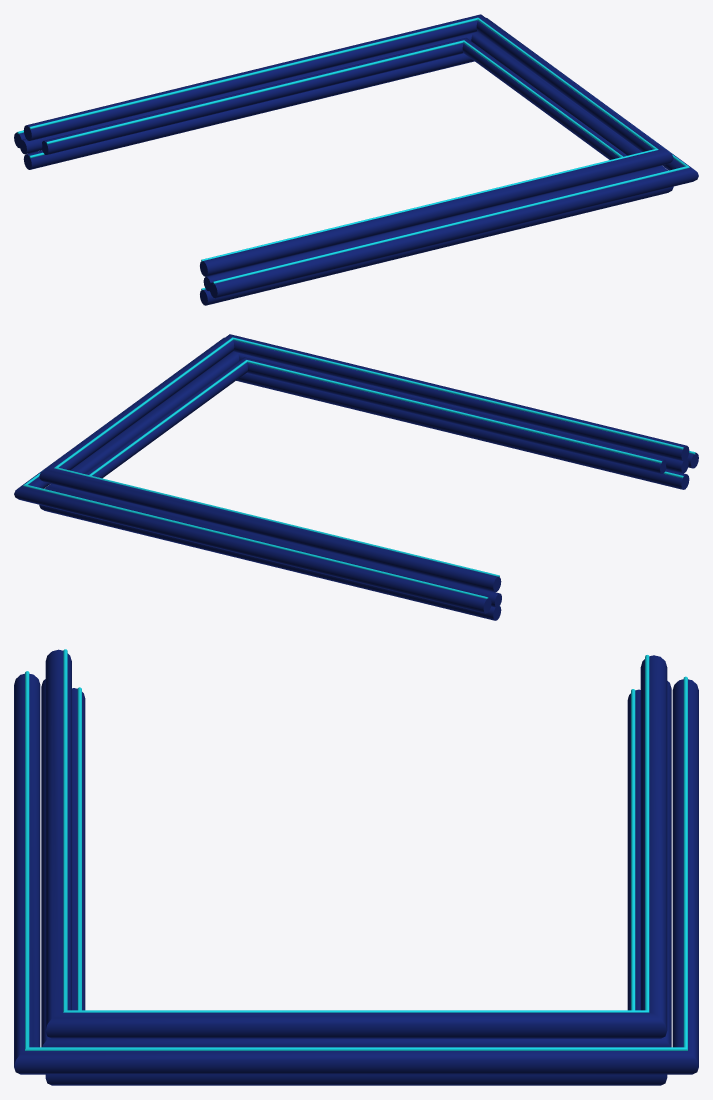
The model's file is TubesSmooth02_Mapa01.FBX.
3 views of the same model, one above another, from view 1: azimuth 30°, elevation 25°; view 2: azimuth 150°, elevation 25°; view 3: azimuth 270°, elevation 25° (orthographic). The views are drawn at different scales.
Parts seen in each view (by area): view 1: Line004, Shape012; view 2: Line004, Shape012; view 3: Line004, Shape012.
Part boxes in pixels (box(x1,y1,x2,y2)): Line004: box(14, 14, 698, 305); Shape012: box(17, 17, 689, 290); Line004: box(14, 334, 698, 620); Shape012: box(23, 337, 695, 599); Line004: box(14, 649, 698, 1085); Shape012: box(25, 649, 687, 1050).
Size of the model in its own units: 604 by 52.66 by 458.
